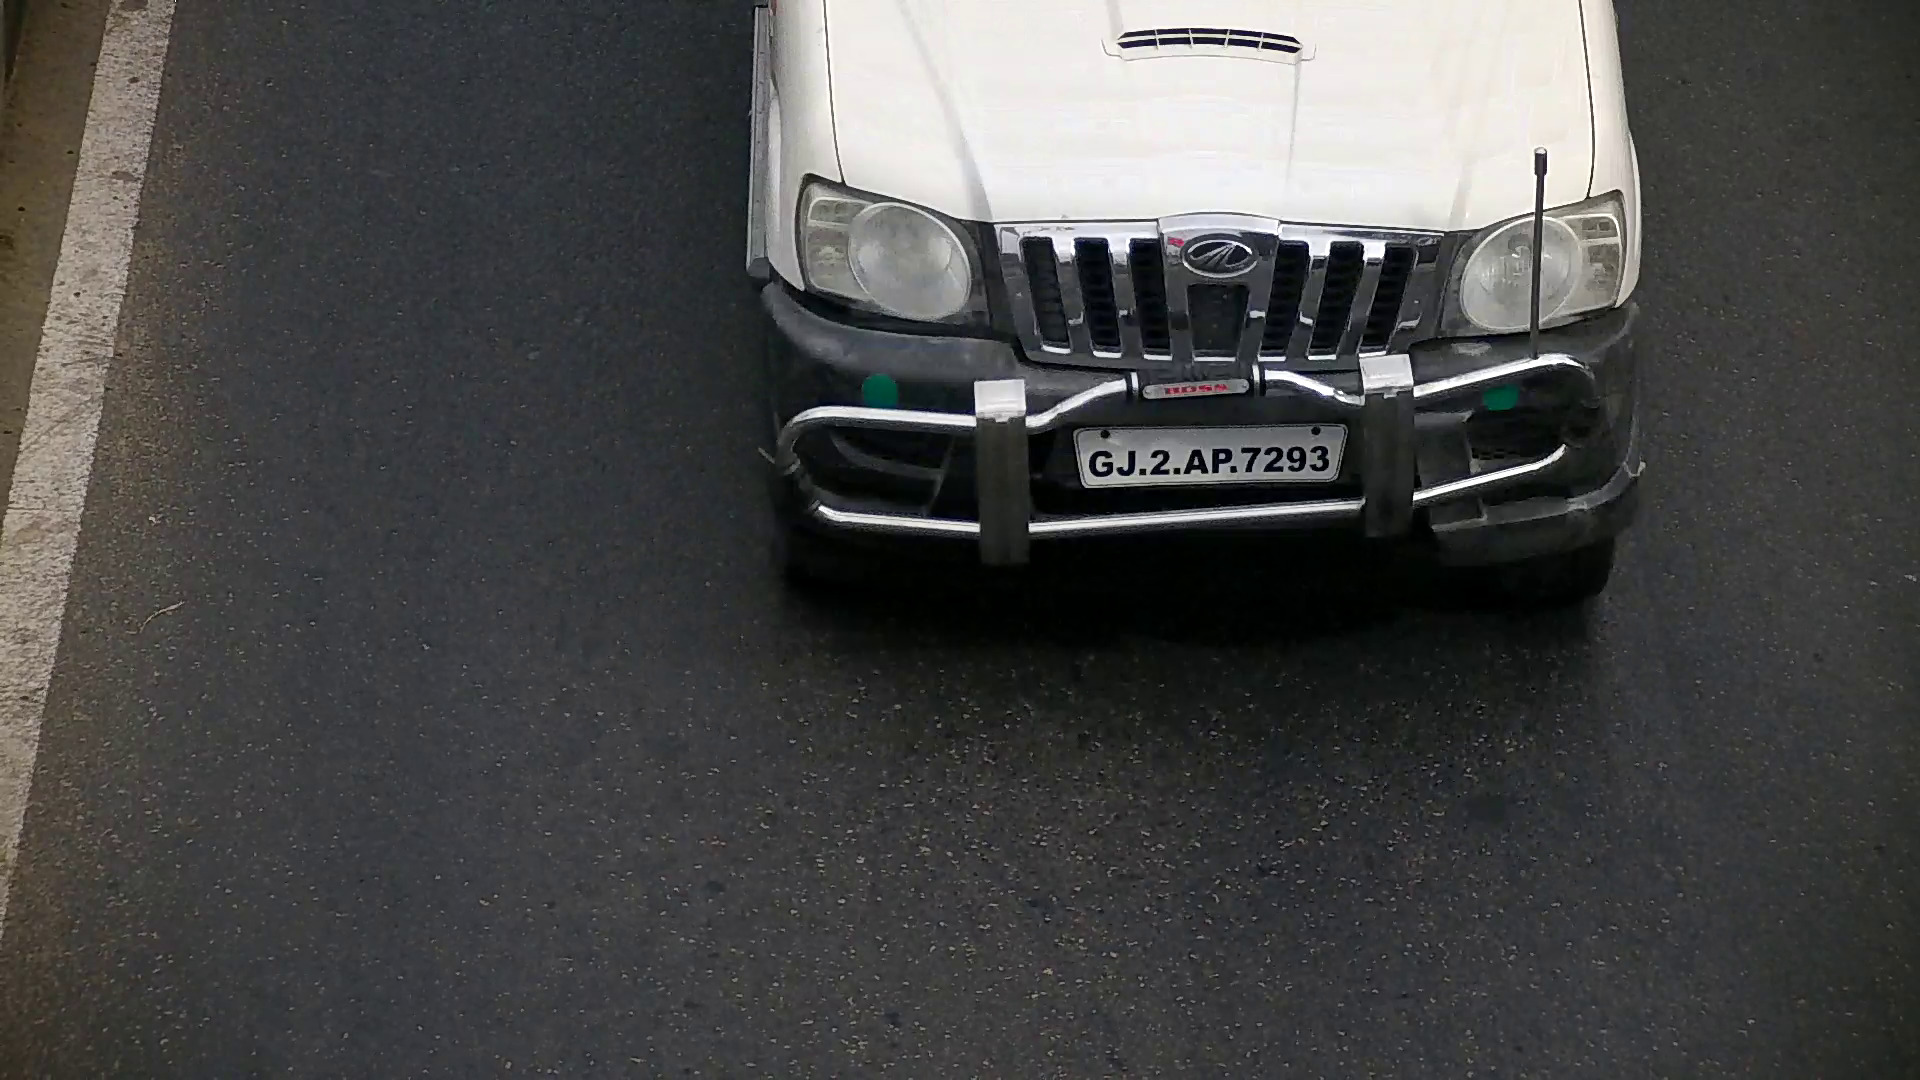numberplate: (1068, 415, 1349, 494)
